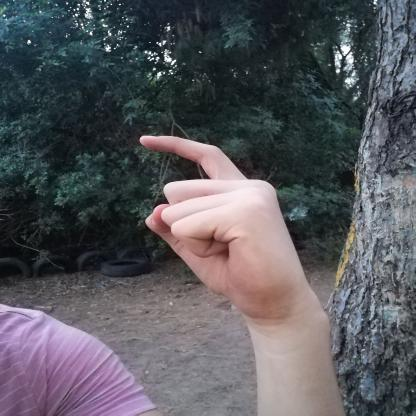RAA: (125, 123, 323, 317)
